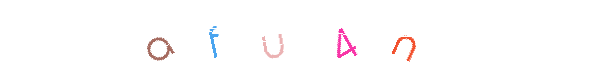4: (257, 0, 337, 80)
A: (173, 0, 253, 80)
F: (225, 0, 305, 80)
N: (304, 0, 384, 80)
U: (237, 0, 317, 80)
